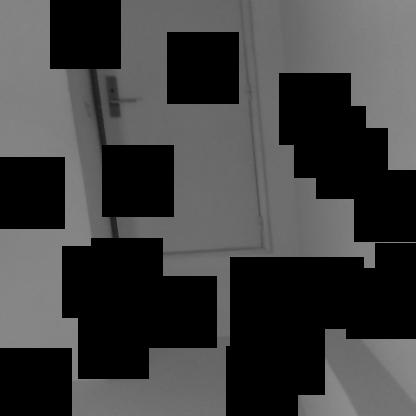Porte: (77, 1, 275, 268)
